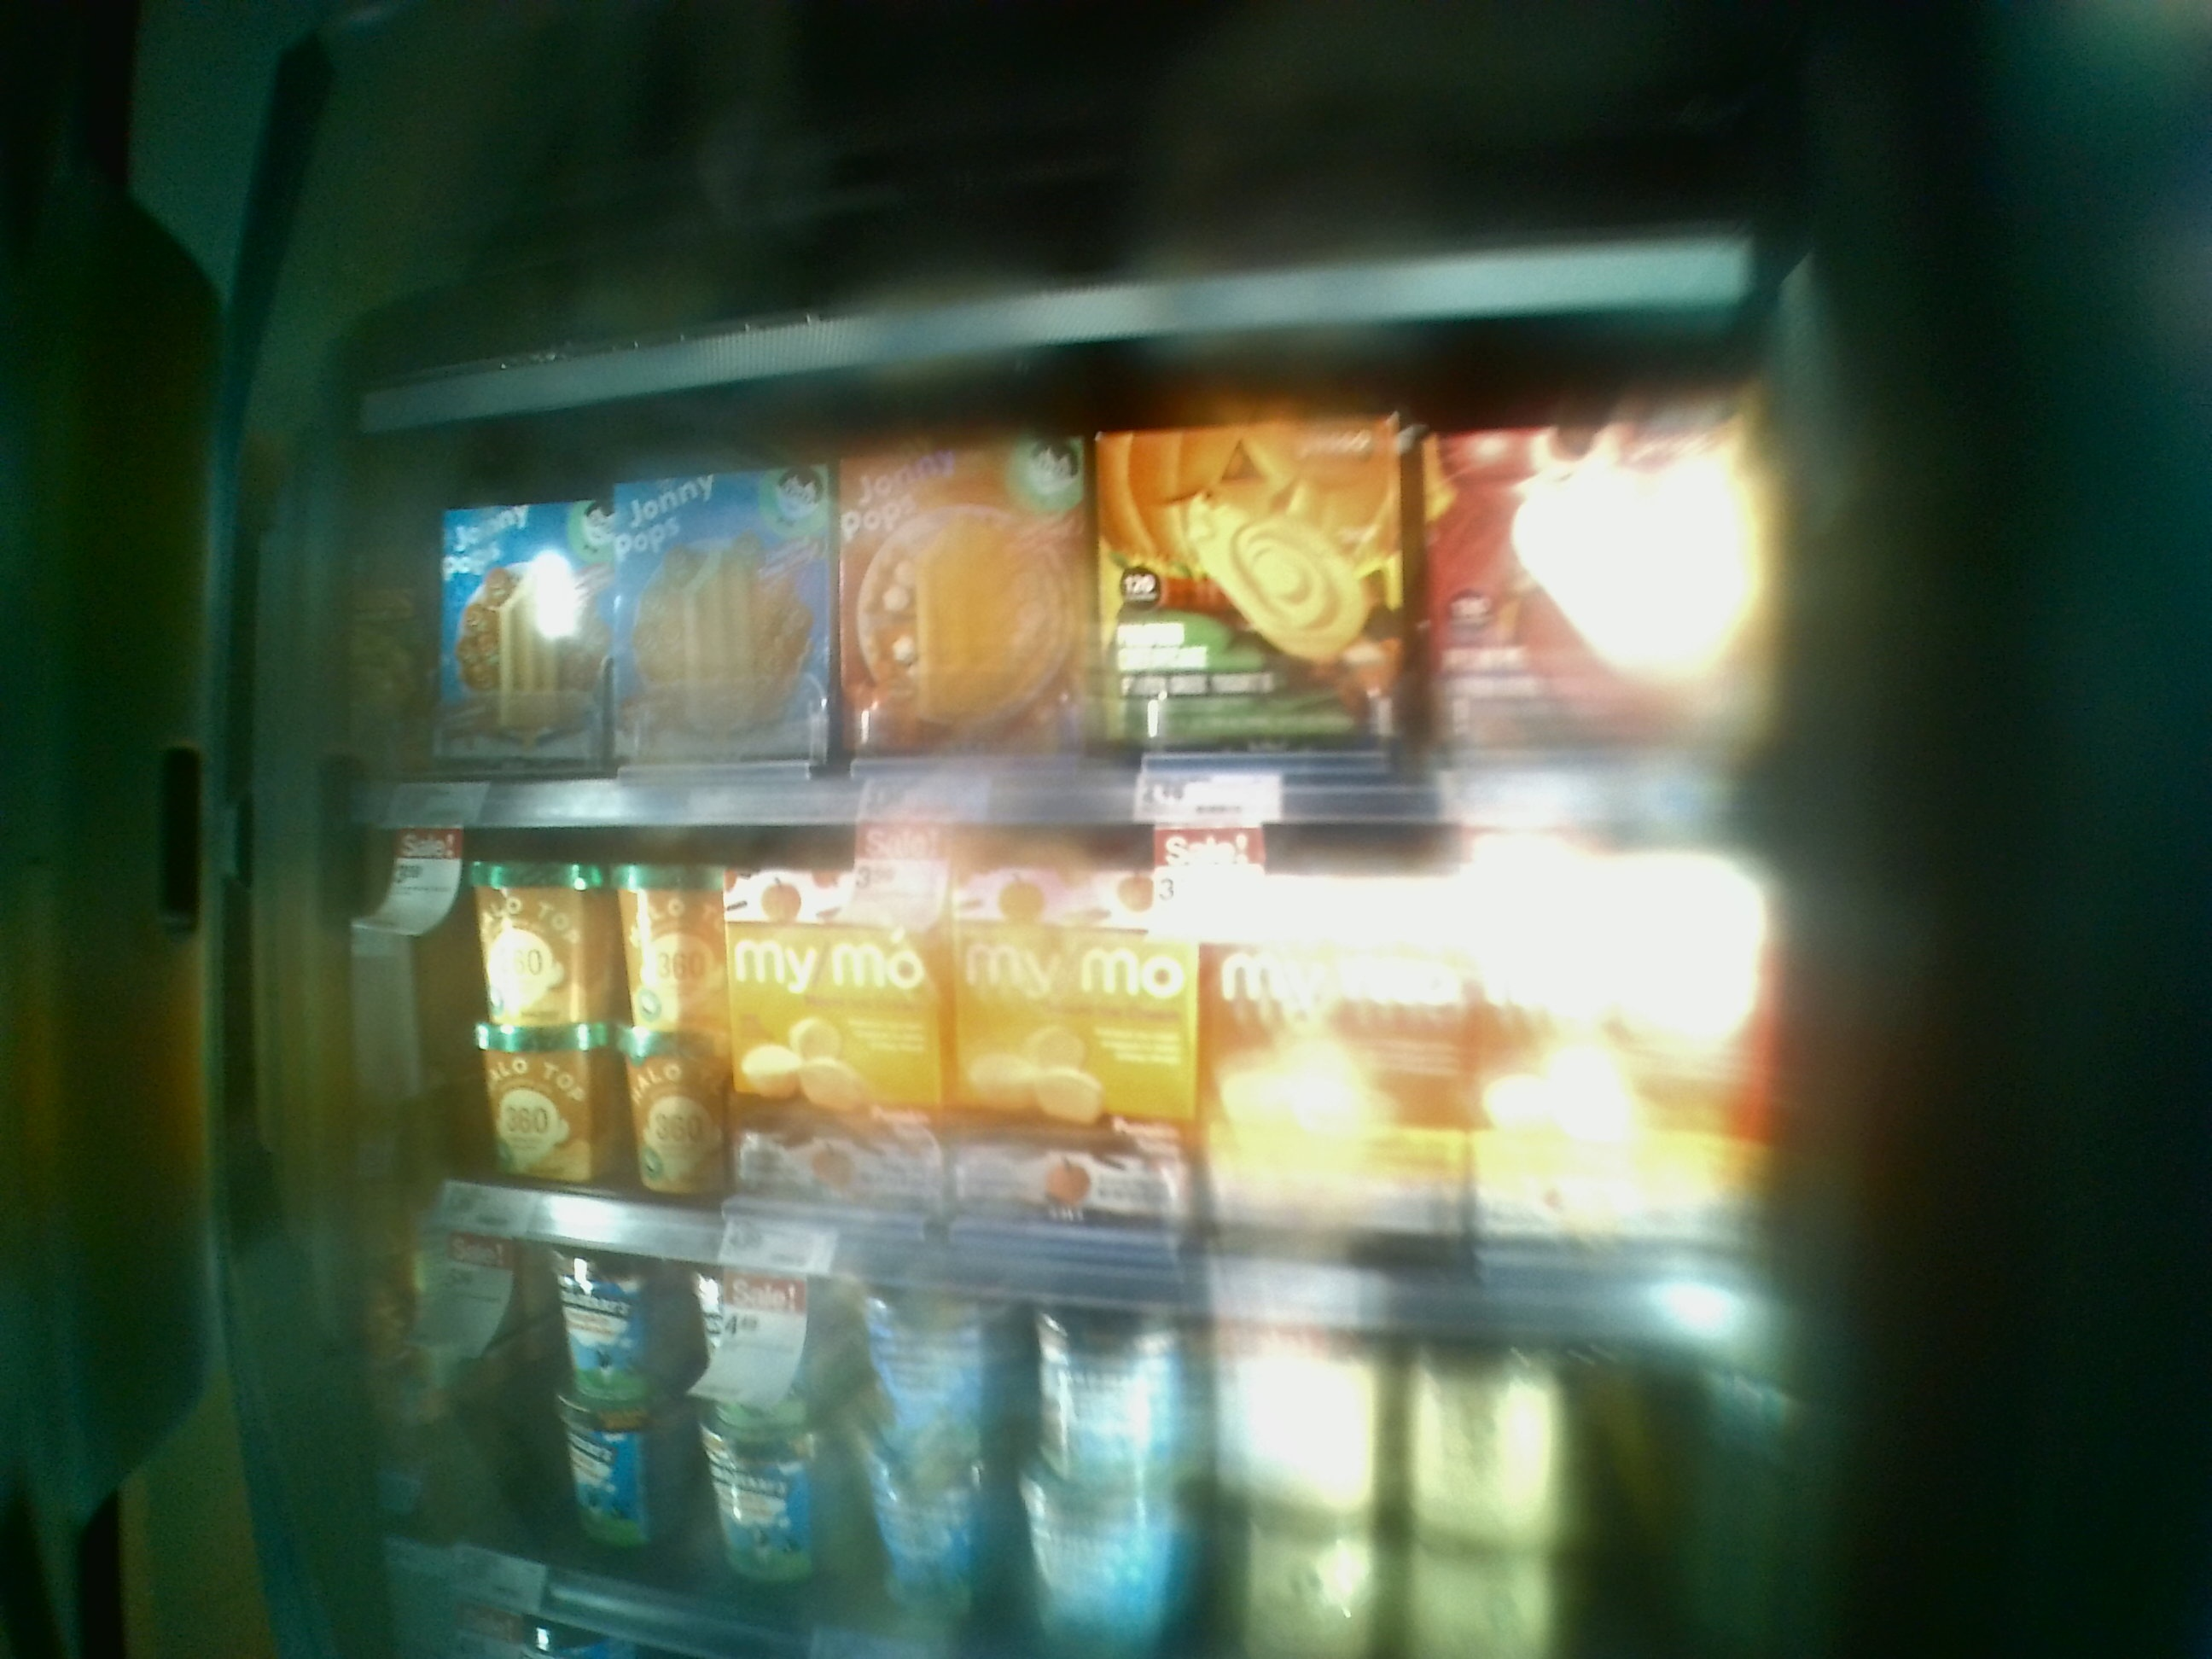shelf: (334, 763, 1770, 1352), (333, 359, 1749, 823)
